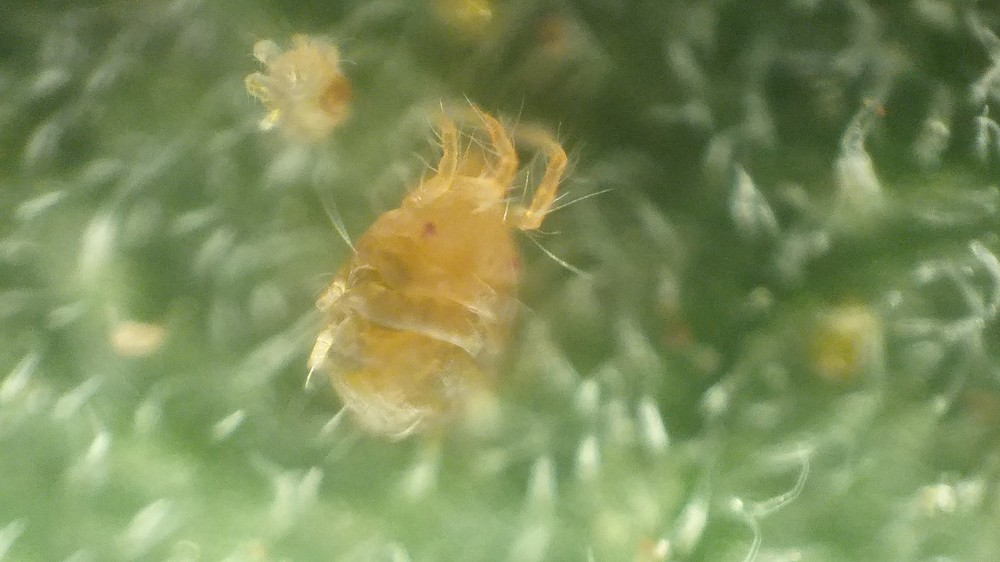Aracnido Rojo: (321, 108, 588, 466), (249, 41, 373, 146)
